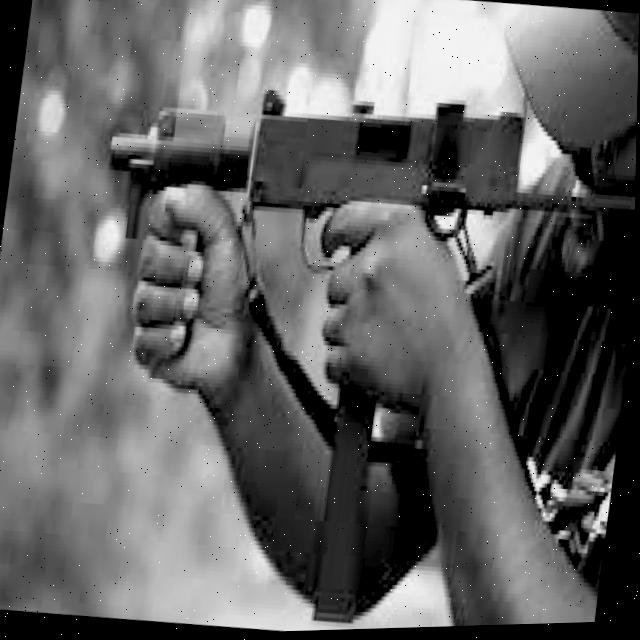firearm: (53, 54, 639, 639)
